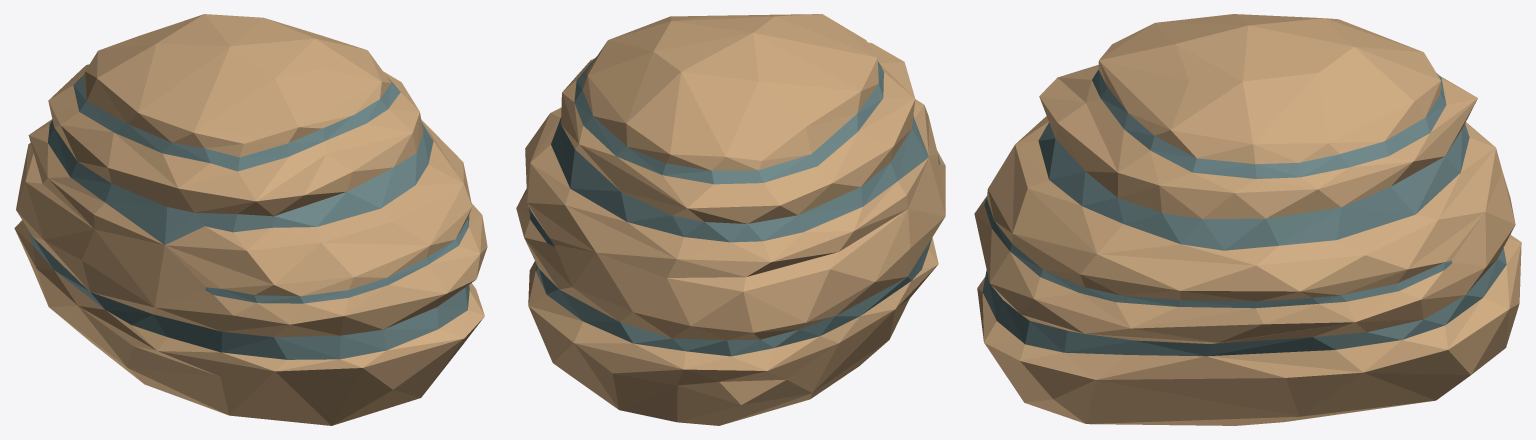
Rendered from SM_LP_MetalNode_5.fbx.
The picture shows the model from 3 angles, left to right: view 1: azimuth 30°, elevation 25°; view 2: azimuth 150°, elevation 25°; view 3: azimuth 270°, elevation 25°; orthographic projection. The views are drawn at different scales.
Parts seen in each view (by area): view 1: SM_LP_MetalNode_5; view 2: SM_LP_MetalNode_5; view 3: SM_LP_MetalNode_5.
Part boxes in pixels (bbox=[...]): SM_LP_MetalNode_5: bbox=[14, 14, 487, 425]; SM_LP_MetalNode_5: bbox=[516, 14, 945, 425]; SM_LP_MetalNode_5: bbox=[974, 14, 1521, 425].
Size of the model in its own units: 0.7894 by 0.7168 by 0.9578.
